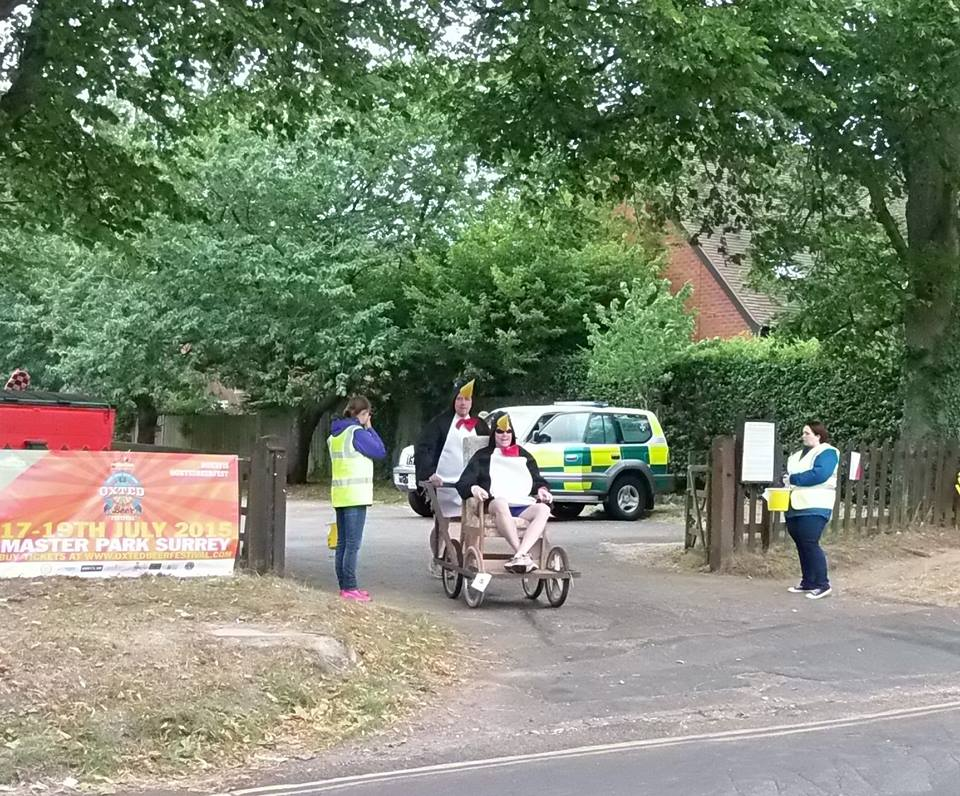Person: (462, 413, 554, 572), (324, 393, 382, 603), (784, 419, 838, 600), (421, 376, 482, 480)
